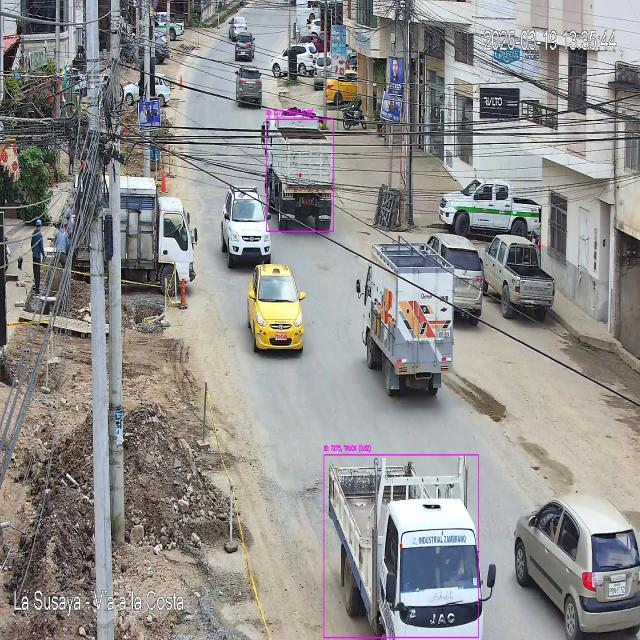SED: (514, 496, 640, 640), (248, 263, 306, 359)
SUV: (222, 186, 269, 270)
TRUCK: (329, 460, 483, 640), (360, 242, 454, 398), (258, 104, 335, 237)
